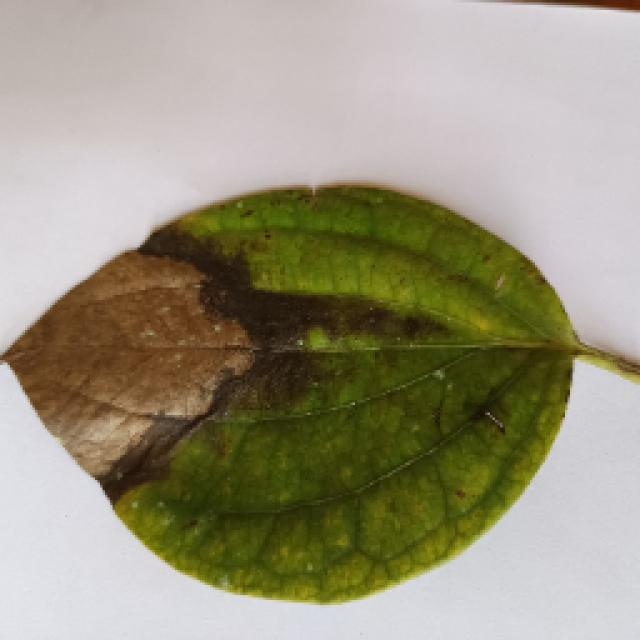footrot: (3, 180, 625, 605)
